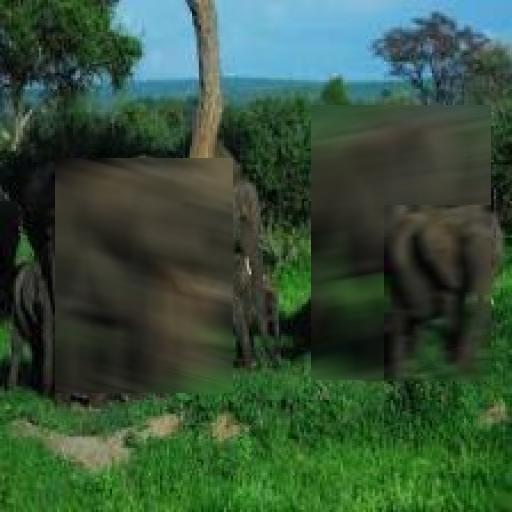Elephant: (311, 105, 491, 380), (55, 158, 233, 393), (384, 206, 491, 382)
